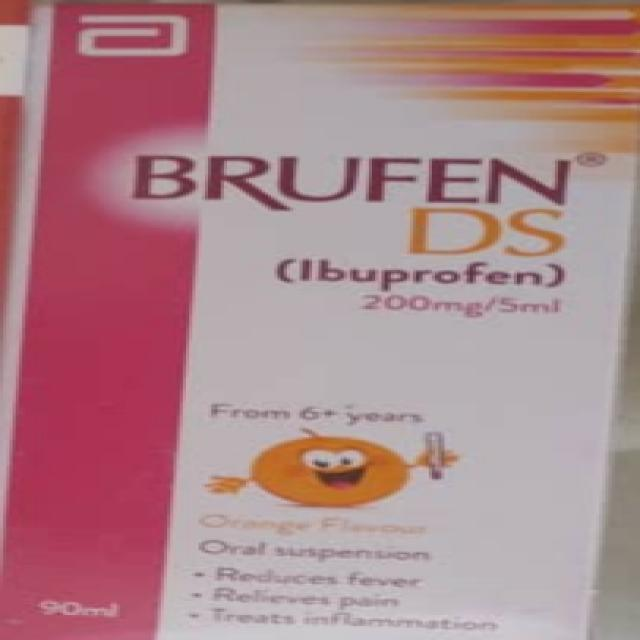drug-name: (126, 140, 576, 260)
